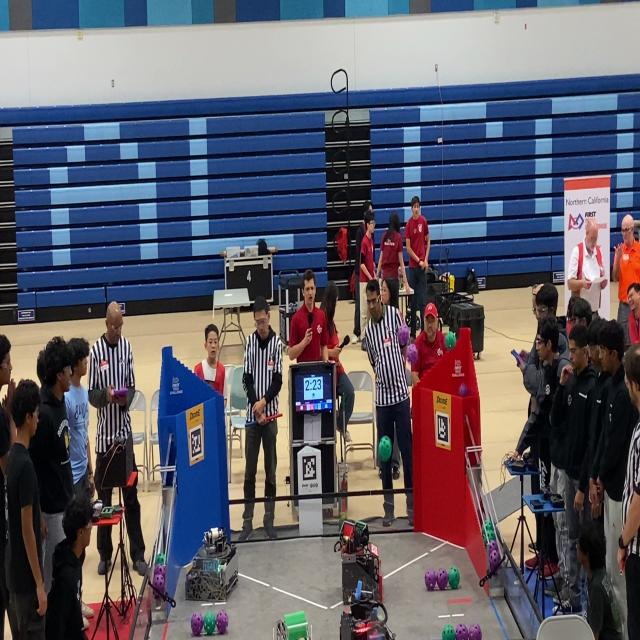artifact_green: (481, 520, 495, 546), (379, 436, 392, 462), (152, 574, 165, 597), (488, 550, 501, 573), (204, 611, 216, 635), (448, 567, 460, 589), (481, 527, 492, 546), (445, 331, 456, 350), (442, 625, 455, 639), (154, 564, 166, 578), (487, 541, 499, 554), (155, 552, 165, 564), (482, 529, 488, 546), (482, 527, 494, 535), (484, 520, 493, 530), (487, 530, 495, 541)
artifact_purple: (191, 613, 203, 636), (489, 550, 501, 572), (217, 610, 228, 634), (204, 611, 215, 635), (425, 569, 436, 591), (398, 324, 409, 346), (407, 344, 418, 365), (437, 568, 448, 589), (153, 574, 164, 594), (487, 540, 499, 556), (456, 624, 468, 639), (469, 624, 481, 639), (154, 565, 166, 578), (459, 383, 469, 397)
